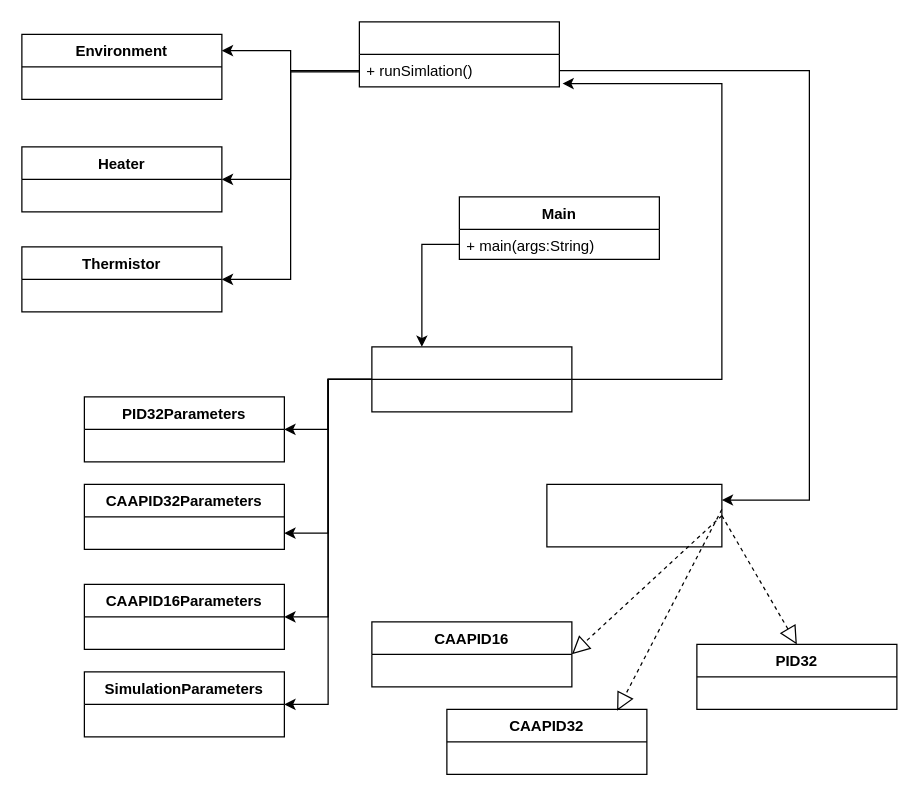
This 919x796 diagram has some shape labels left out. Each missing label, with the box of its shape:
GraphWindow: (371, 346, 572, 412)
Simulator: (358, 21, 559, 87)
«interface» ControlerAlgorithm: (546, 483, 722, 547)
